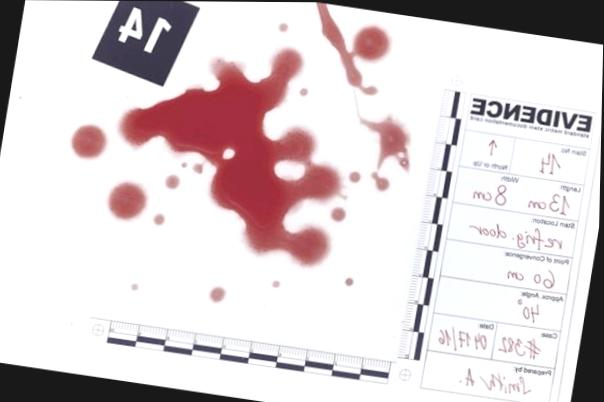Fire: (118, 46, 349, 267), (317, 2, 393, 94), (359, 113, 413, 172), (108, 180, 149, 219), (71, 123, 108, 158), (372, 171, 392, 190), (210, 285, 228, 303), (166, 173, 182, 189), (332, 206, 347, 221), (350, 170, 362, 183)
